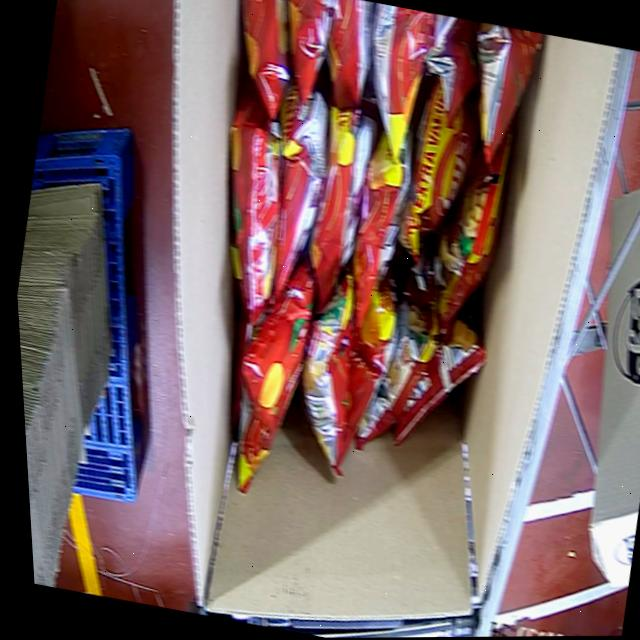MASALA: (138, 0, 576, 539)
